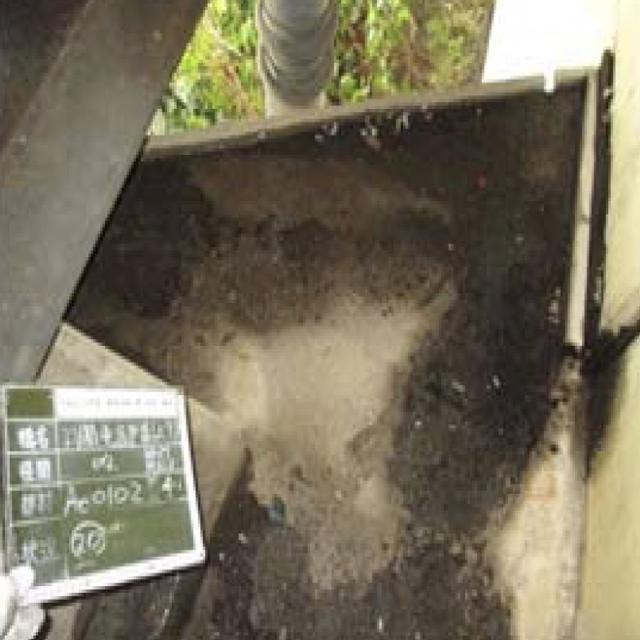leakage: (151, 154, 623, 517)
